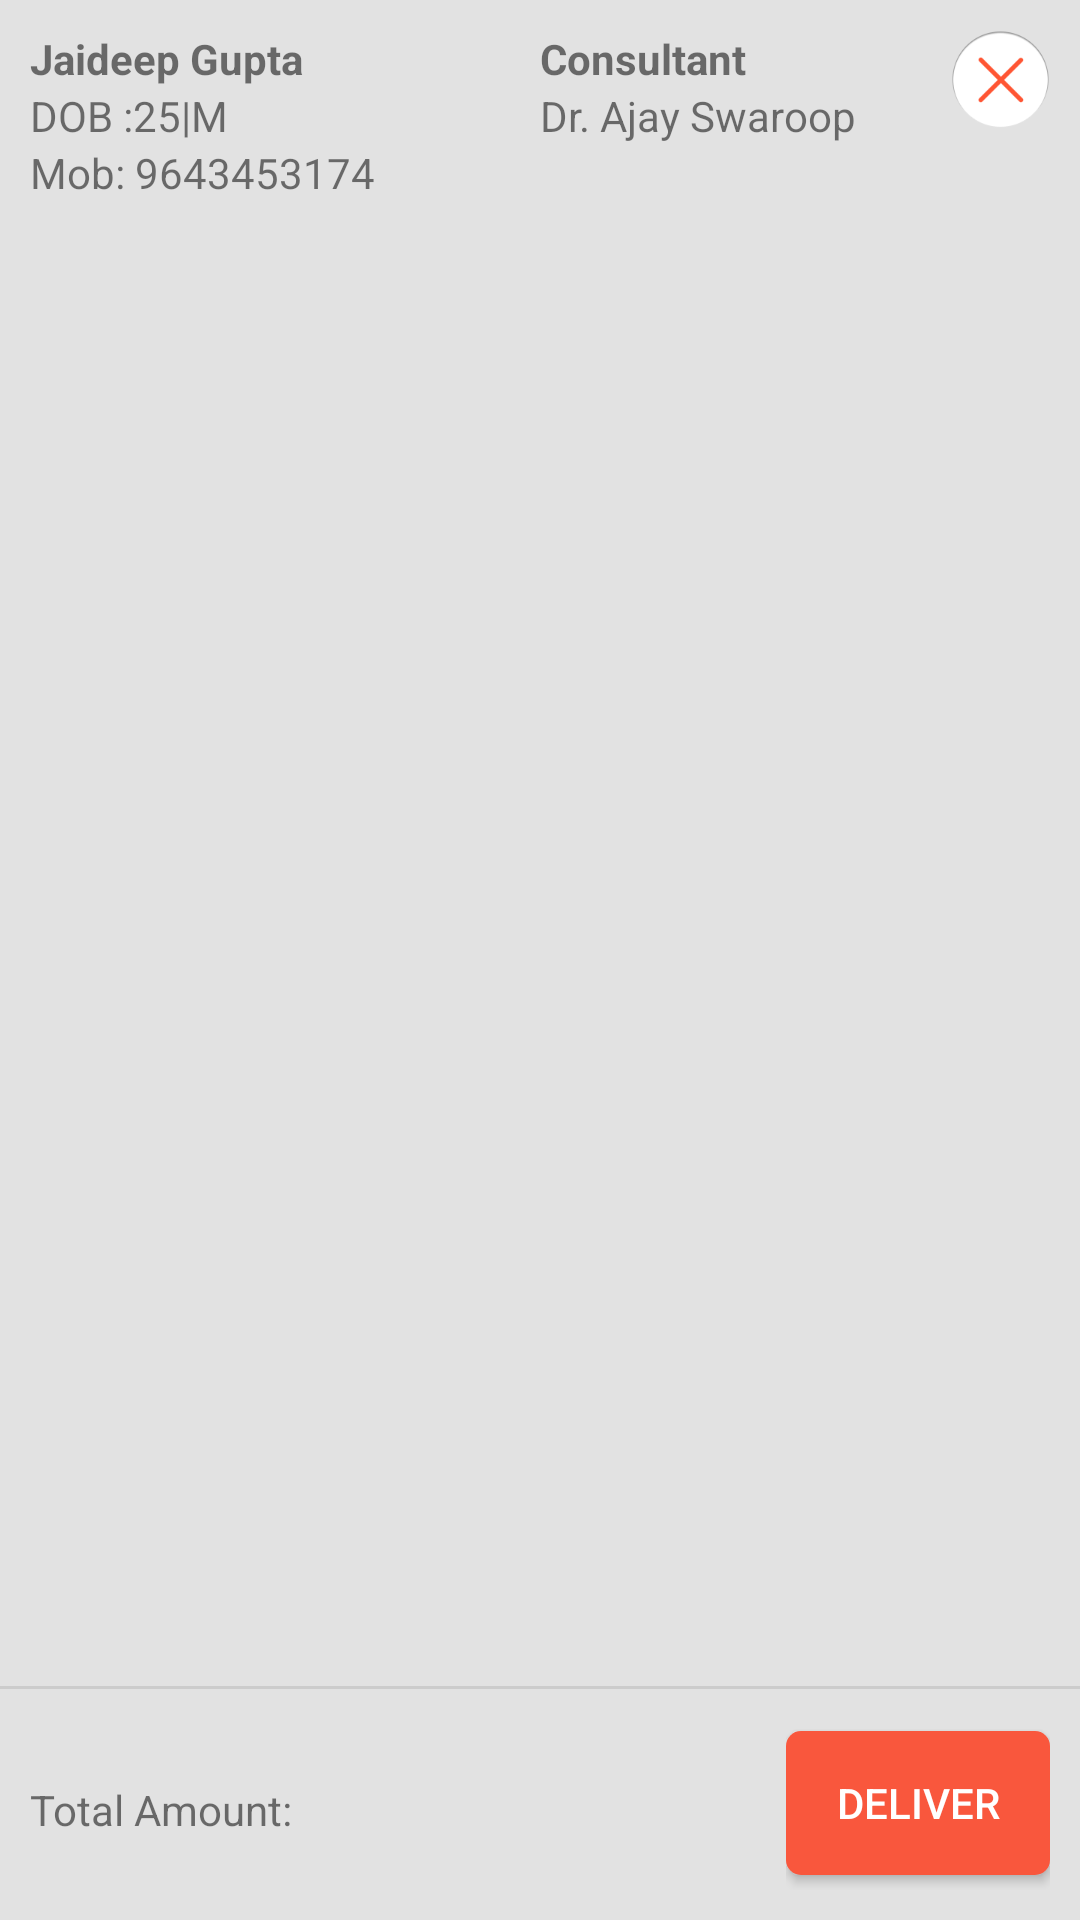

Point at icon controls on the screen. Image size 1080×1920, points as (x=x, y=y).
close dialog: (x=1000, y=78)
